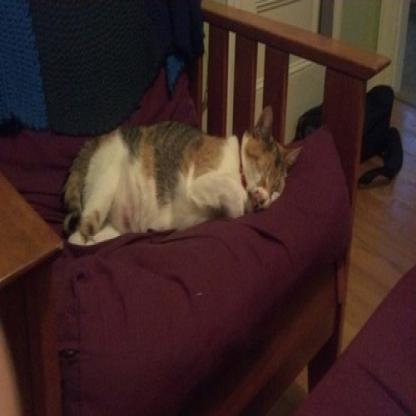Target: (58, 106, 297, 246)
